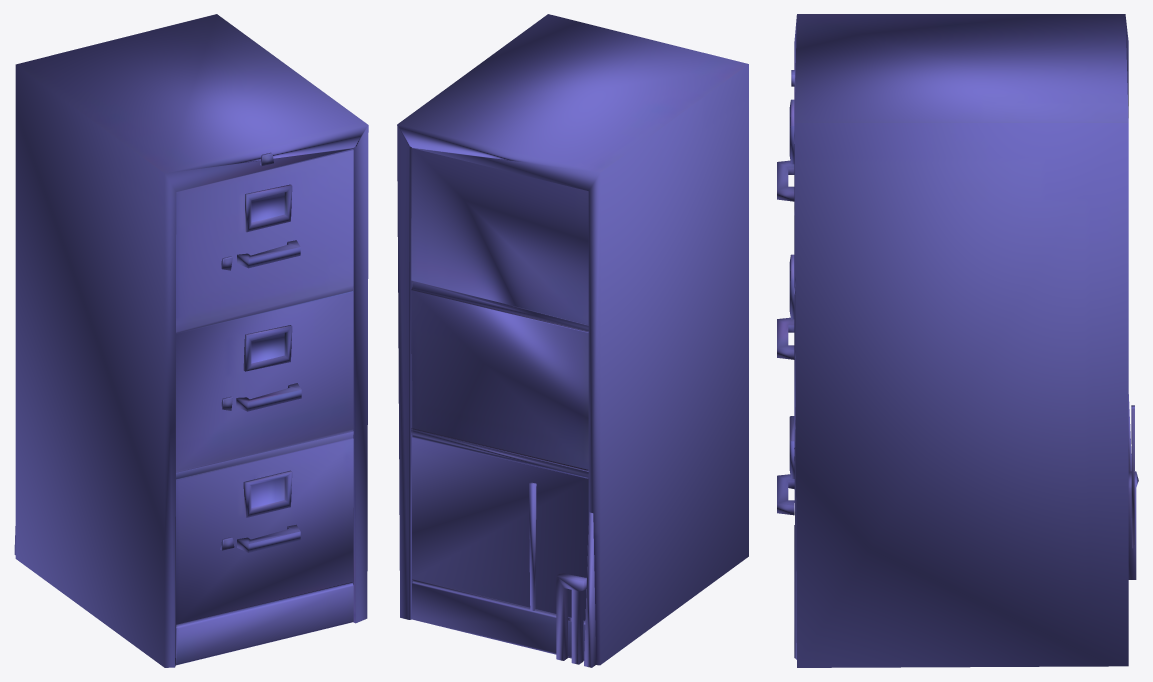
The model's file is model.progressive.glb.
3 views of the same model, side by side, from view 1: azimuth 30°, elevation 25°; view 2: azimuth 150°, elevation 25°; view 3: azimuth 270°, elevation 25° (orthographic). The views are drawn at different scales.
Parts seen in each view (by area): view 1: FillingCabinet1; view 2: FillingCabinet1; view 3: FillingCabinet1.
Boxes of the visible parts, x1=… form: FillingCabinet1: x1=14, y1=14, x2=368, y2=667; FillingCabinet1: x1=397, y1=14, x2=748, y2=667; FillingCabinet1: x1=777, y1=14, x2=1138, y2=667.
Bounding box in the file's own units: 0.8079 × 1.89 × 1.13.
1 material, 1 textured.
